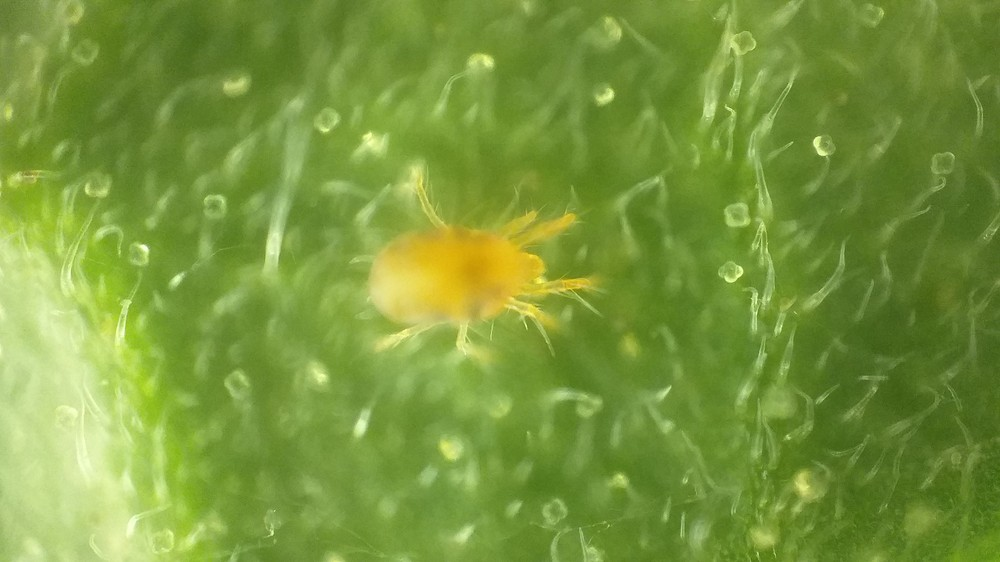Aracnido Rojo: (330, 176, 630, 366)
